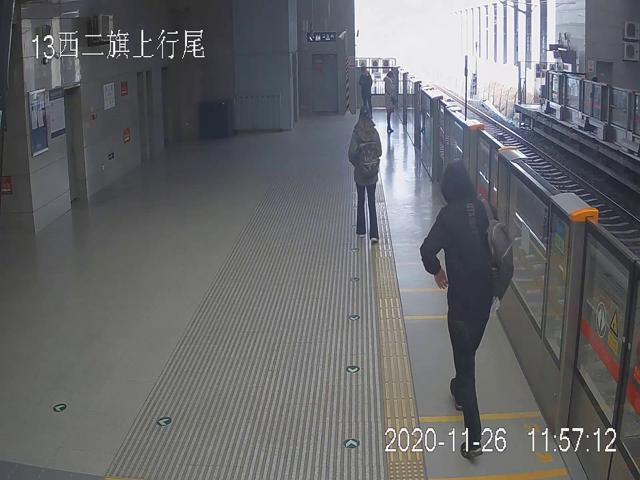person: (420, 160, 500, 462), (348, 106, 382, 243), (383, 69, 396, 132)
